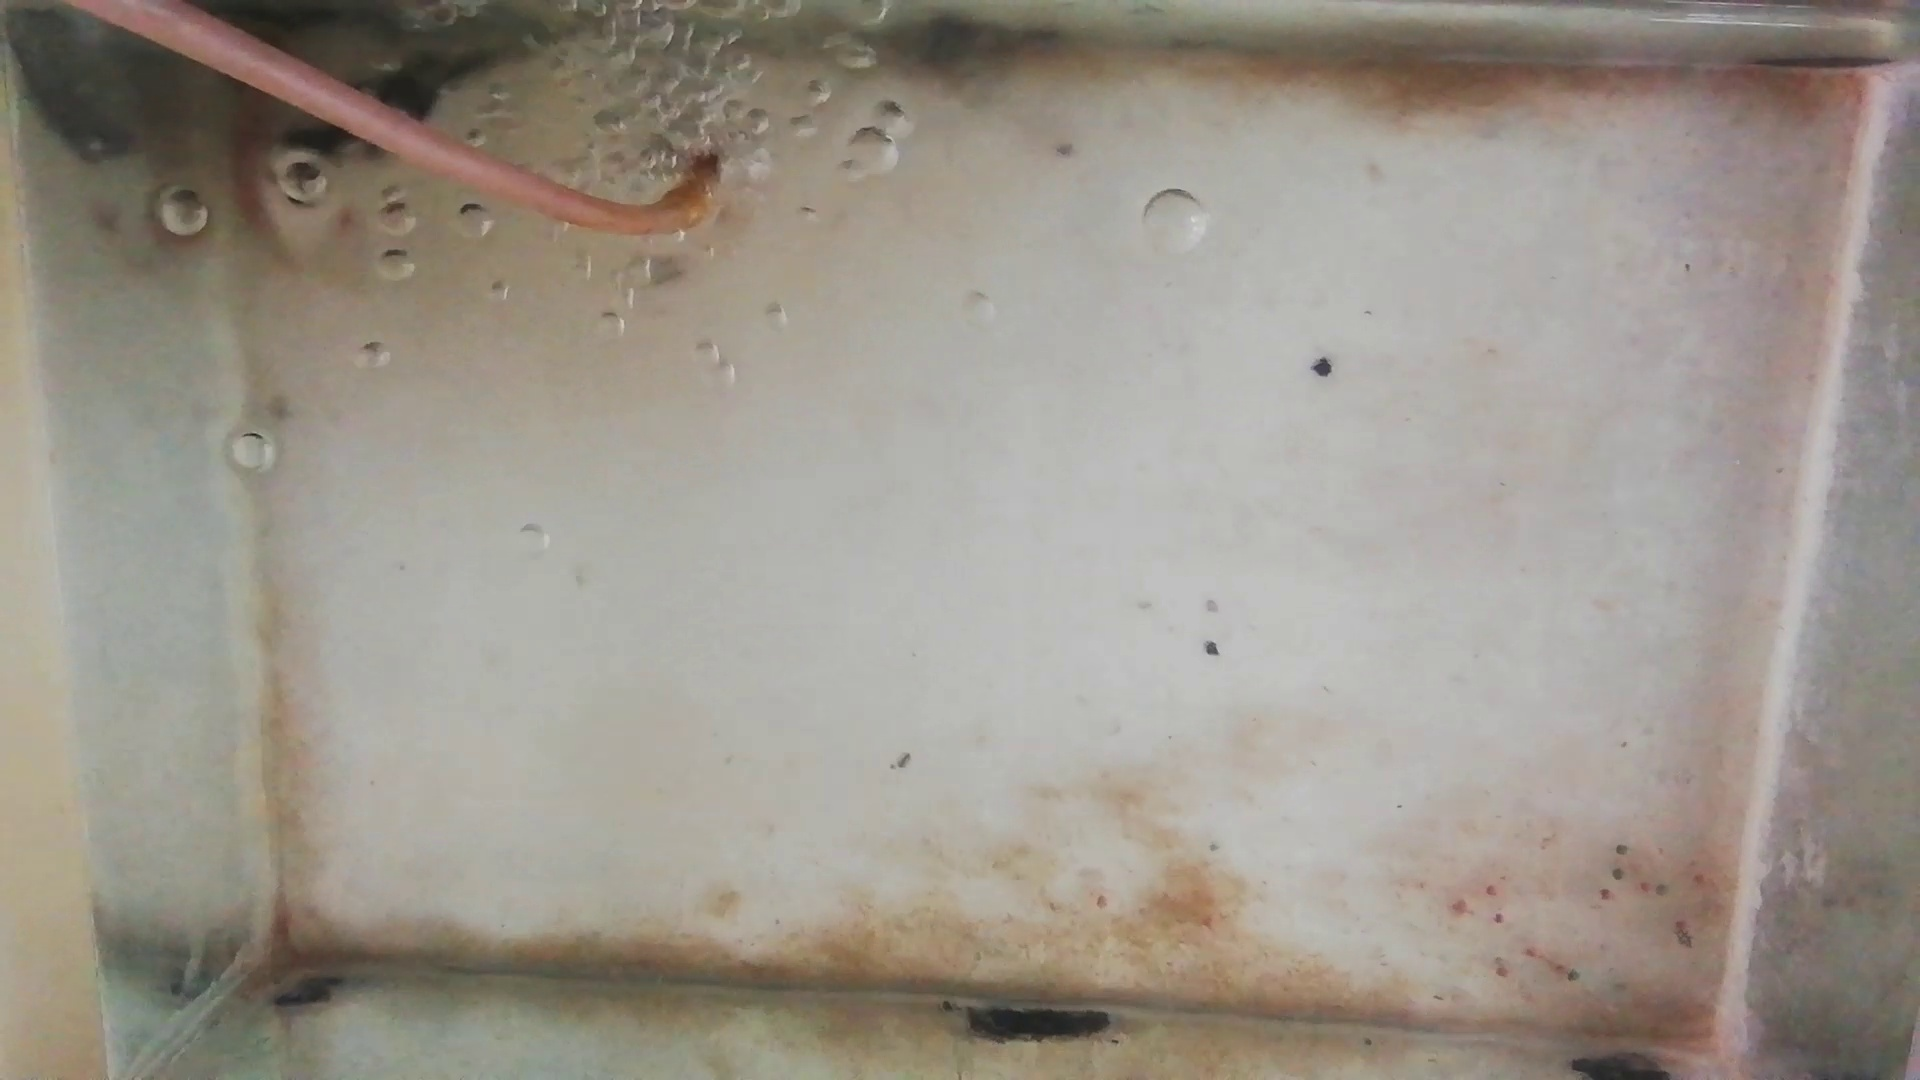fish: (285, 54, 497, 160), (233, 91, 289, 256)
